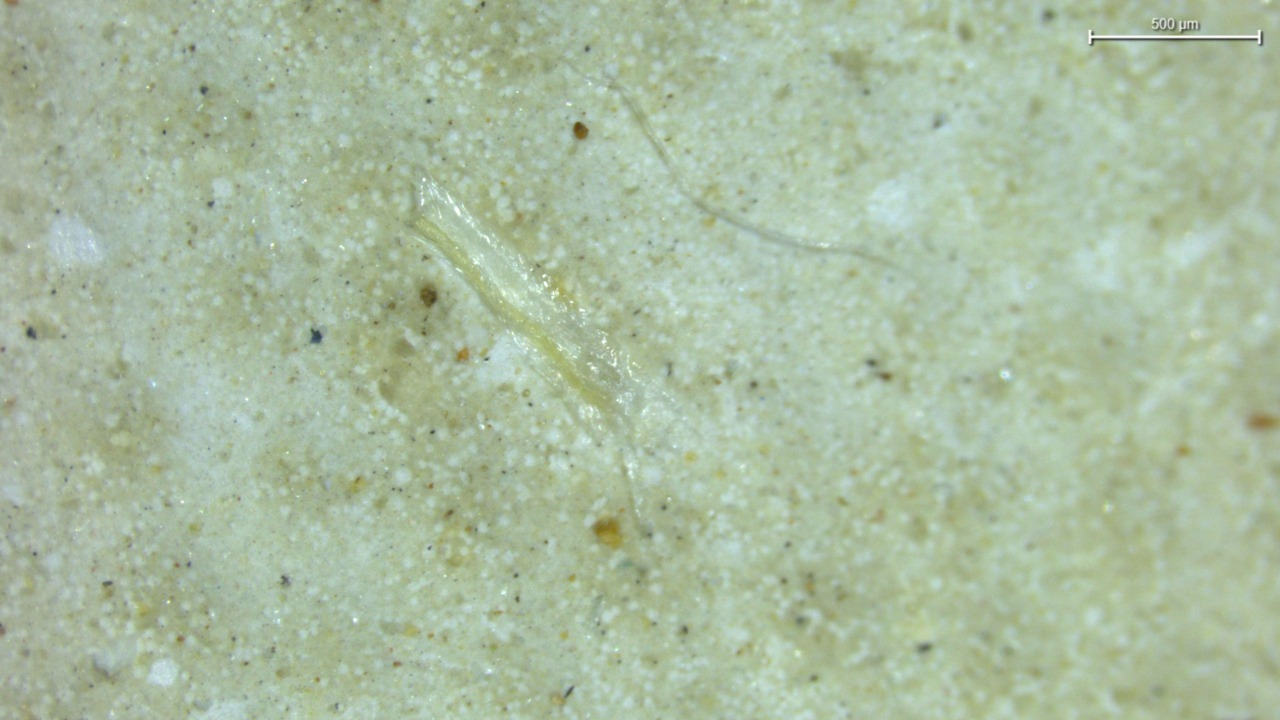microplastic_fragment: (409, 175, 674, 469)
